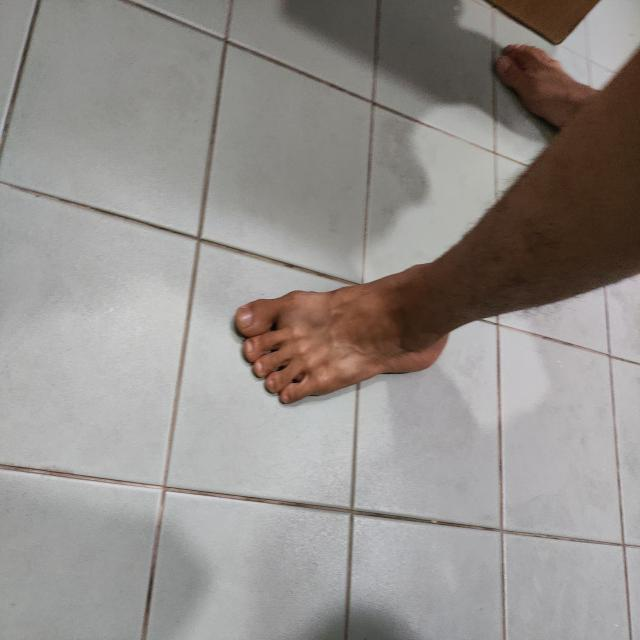No_Shoes: (186, 253, 479, 403), (460, 2, 630, 157)
